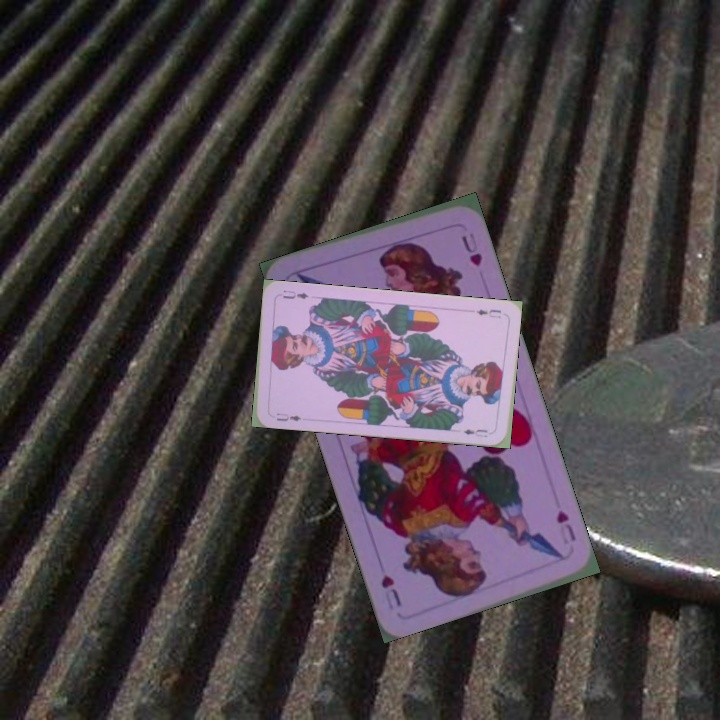EU: (472, 305, 504, 322), (272, 409, 304, 424)
HU: (552, 506, 579, 544)
